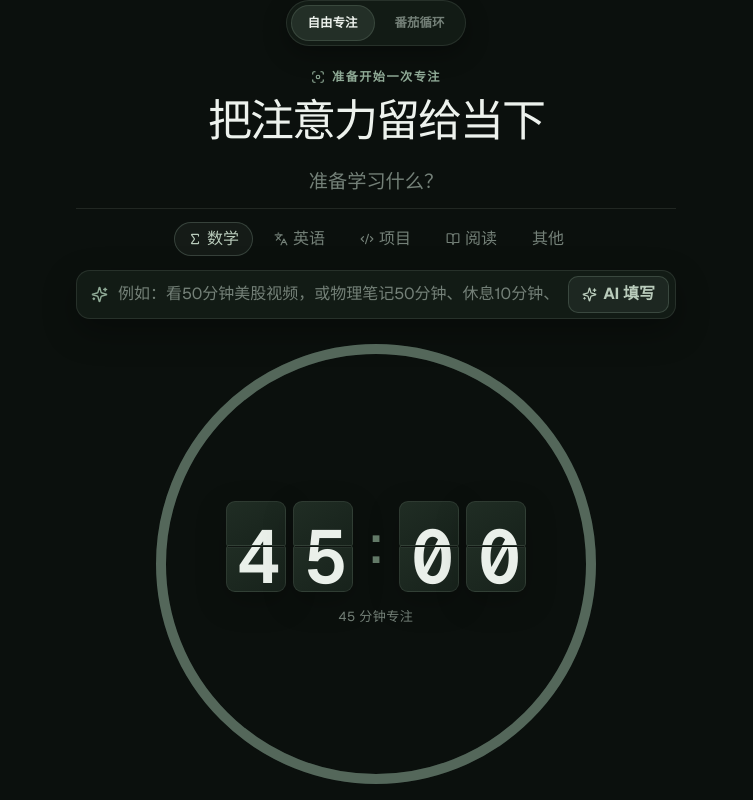
Scenario: FocusTimer unified AI input › switches to Pomodoro, fills all existing settings, and does not start
The image size is (753, 800).
In the field named "用自然语言设置计时器": (338,294) [118,282,558,306], type "物理笔记50分钟，休息10分钟，做4轮，最后休息20分钟"
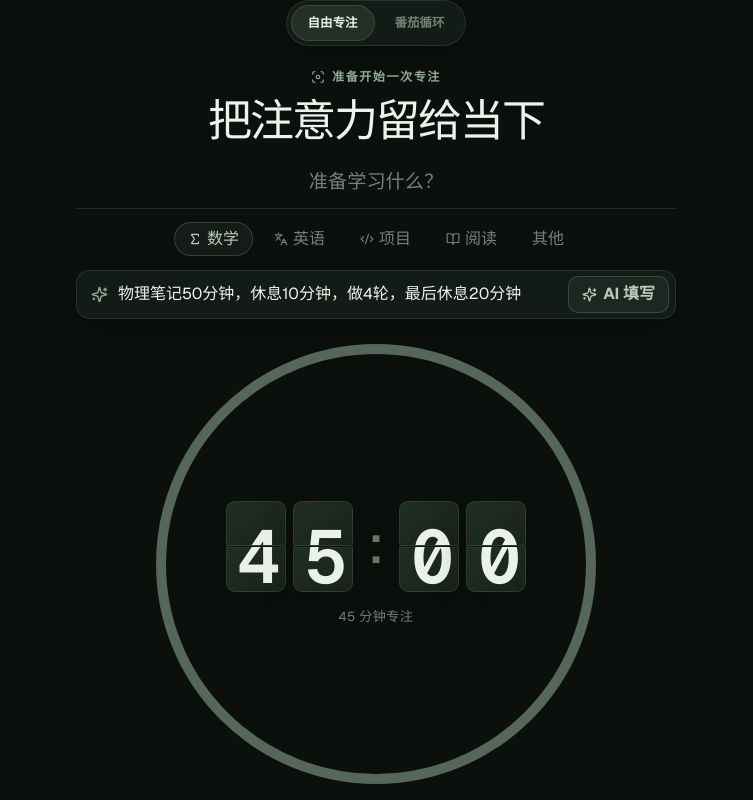
Click the button "AI 填写": (619,294) [568,276,669,313]
(page scrolled)
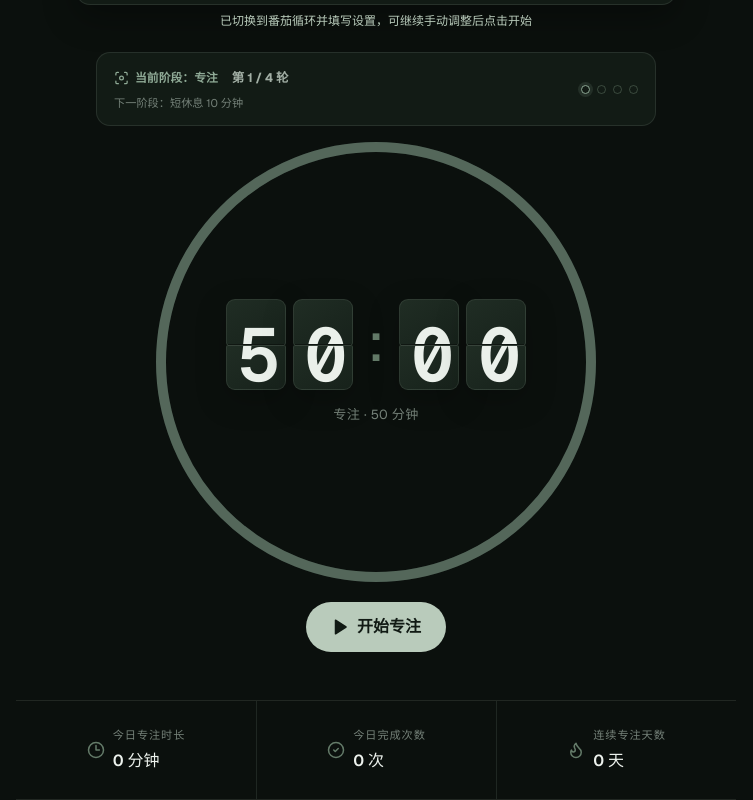
Expected: the button "开始专注" is shown, [306,602,446,652]
Now the element named "剩余时间 50:00" is shown, box [226,299,526,390]
Now the text "第 1 / 4 轮" is shown, box [232,69,288,88]
